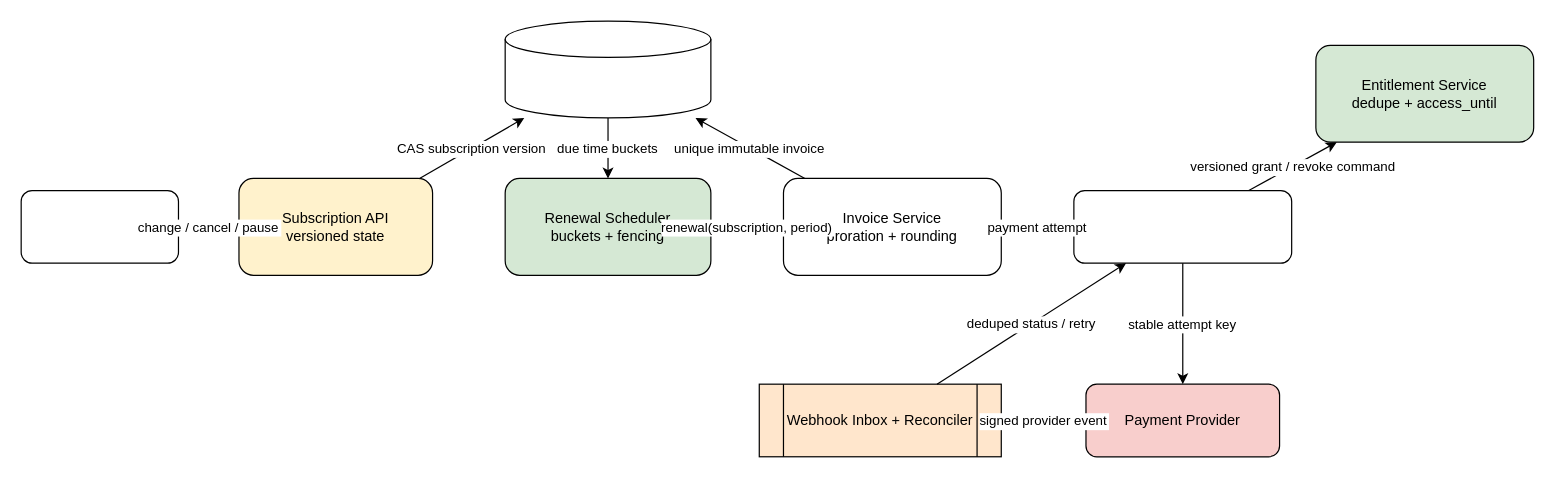
This 1555x478 diagram has some shape labels left out. Each missing label, with the centre of its shape:
"Billing Clients" goes at pixel 99 226.
"Payment + Dunning Workers" goes at pixel 1182 226.
"Subscriptions + Plans RF=3" goes at pixel 607 69.
